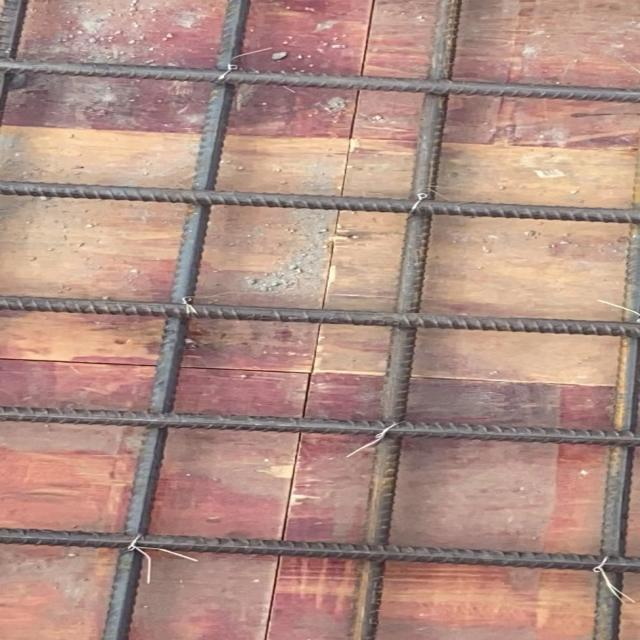ribbed bar: (101, 0, 254, 639), (346, 0, 465, 639), (2, 57, 640, 105), (2, 524, 640, 572), (2, 179, 640, 225), (2, 404, 640, 448), (2, 295, 640, 337), (596, 226, 640, 640)
